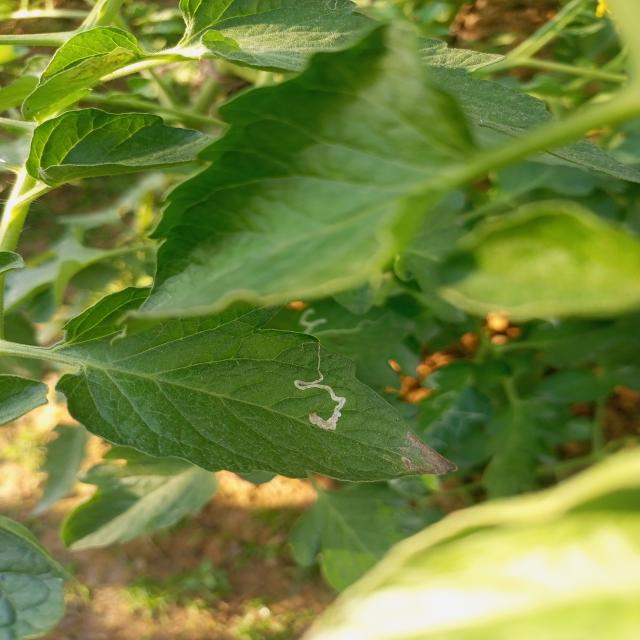Tuta absoluta: (284, 344, 355, 437)
